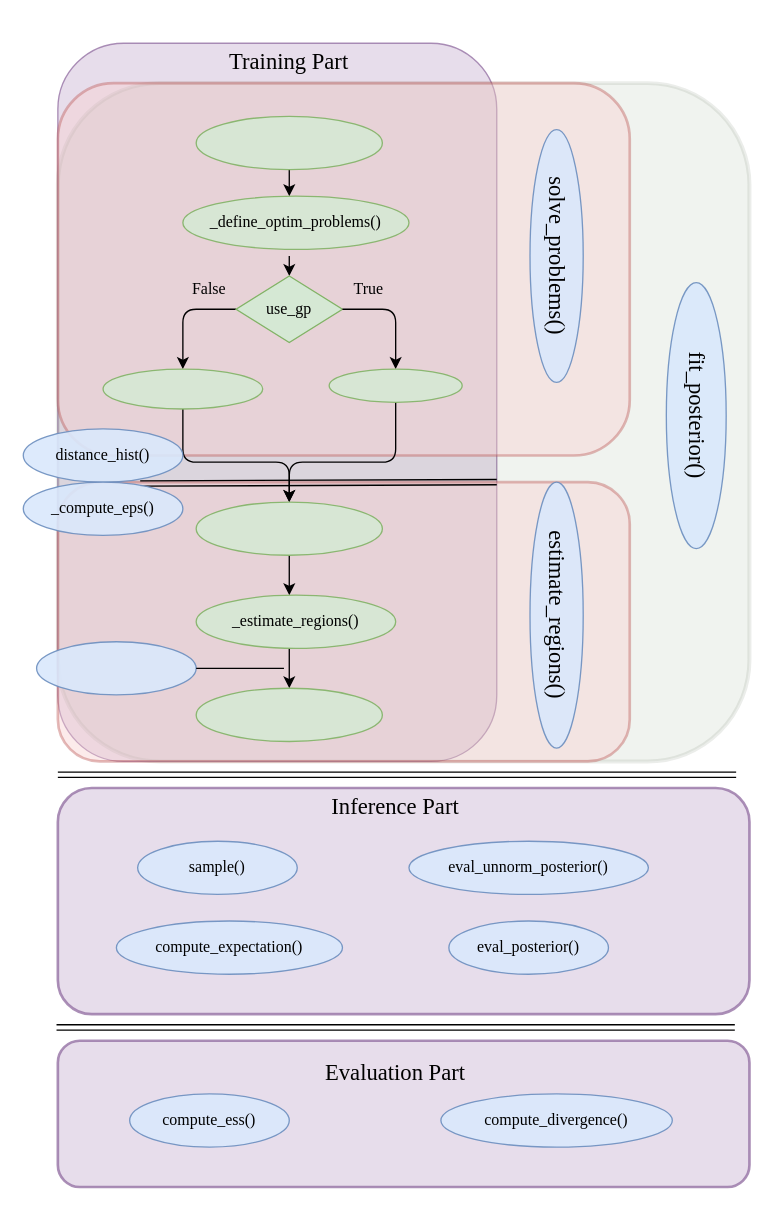
Some shapes in this 774 by 1210 pixel diagram are drawn without their labels. The shapes that lost their labels are listed below. From the top down, each one's box as (x1, y1, x2, y2) in pixels, then its label:
(195, 115, 382, 170): _sample_nuisance()
(102, 368, 263, 409): _solve_gradients()
(328, 368, 462, 402): _solve_bo()
(195, 501, 382, 555): _filter_solutions()
(35, 640, 196, 695): visualize_region()
(195, 687, 382, 741): _define_posterior()
